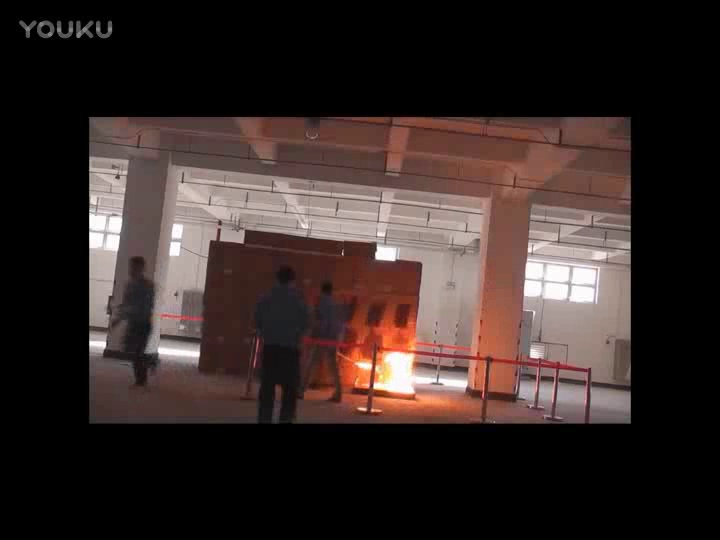fire: (363, 349, 421, 395)
